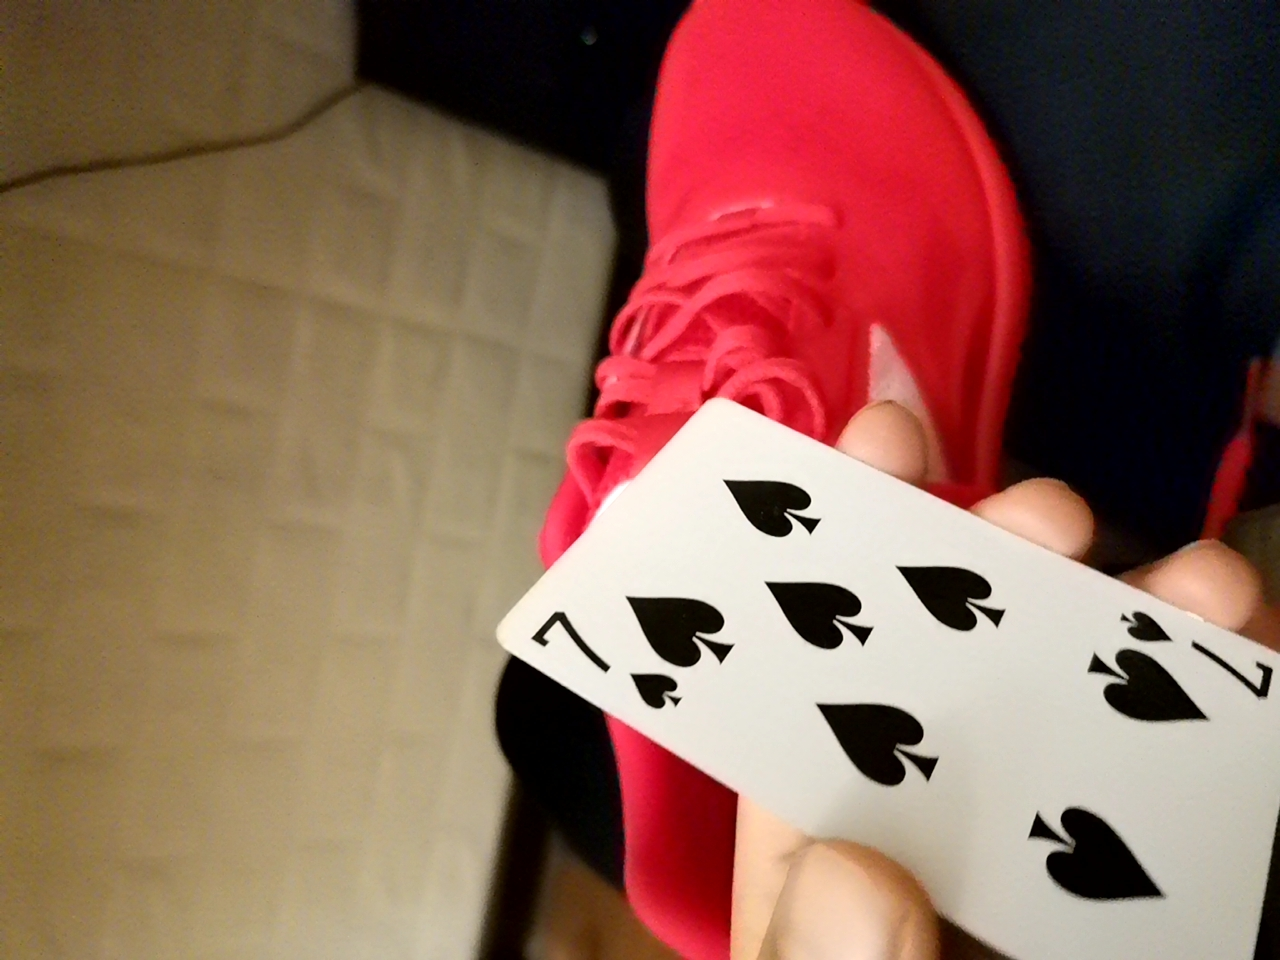ht 7: (482, 388, 1273, 949)
